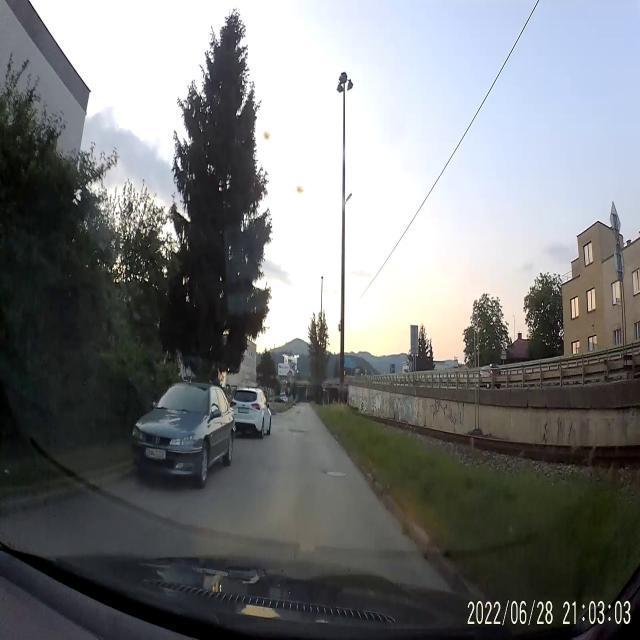Manhole: (324, 467, 348, 479)
